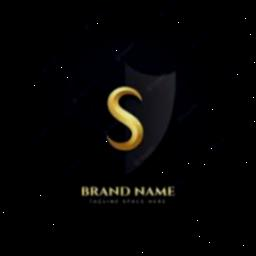s: (104, 83, 148, 155)
